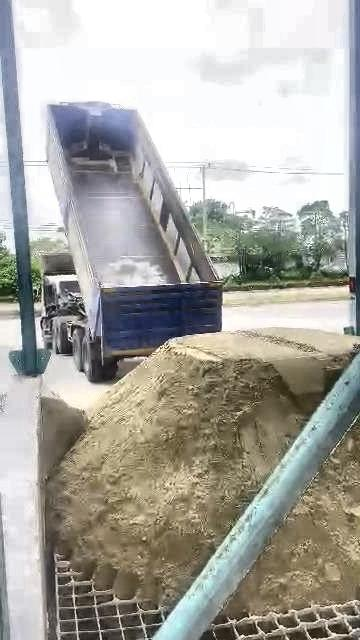sand: (48, 329, 357, 603), (229, 425, 360, 615), (38, 394, 86, 481)
